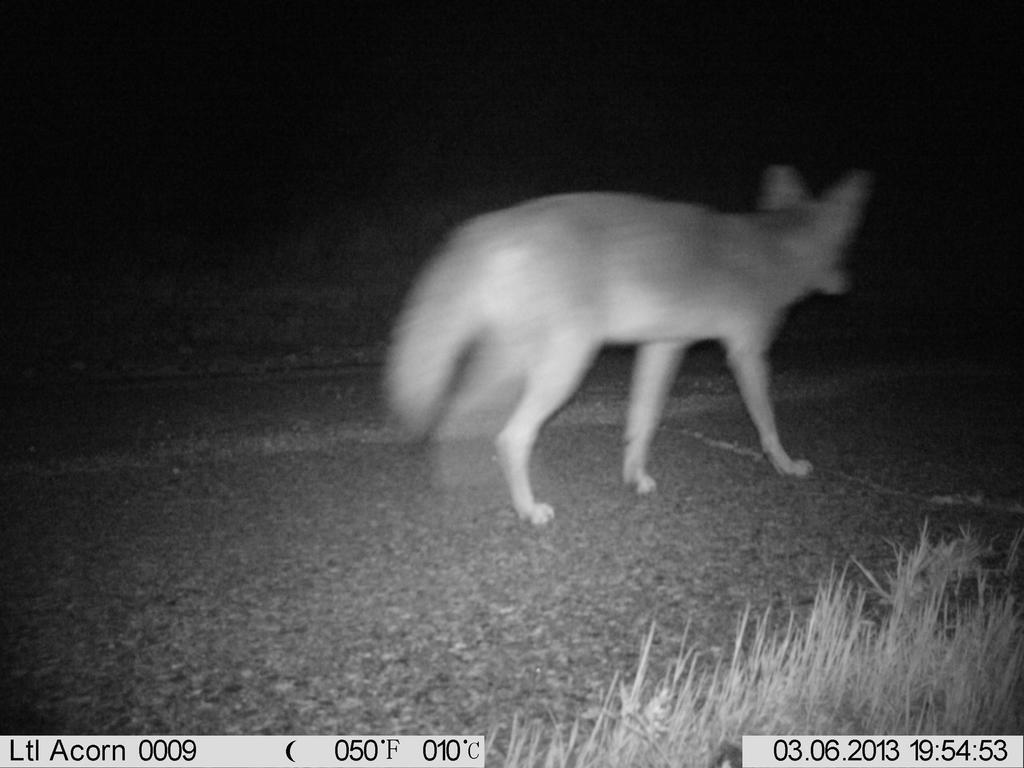coyote: (379, 139, 877, 535)
